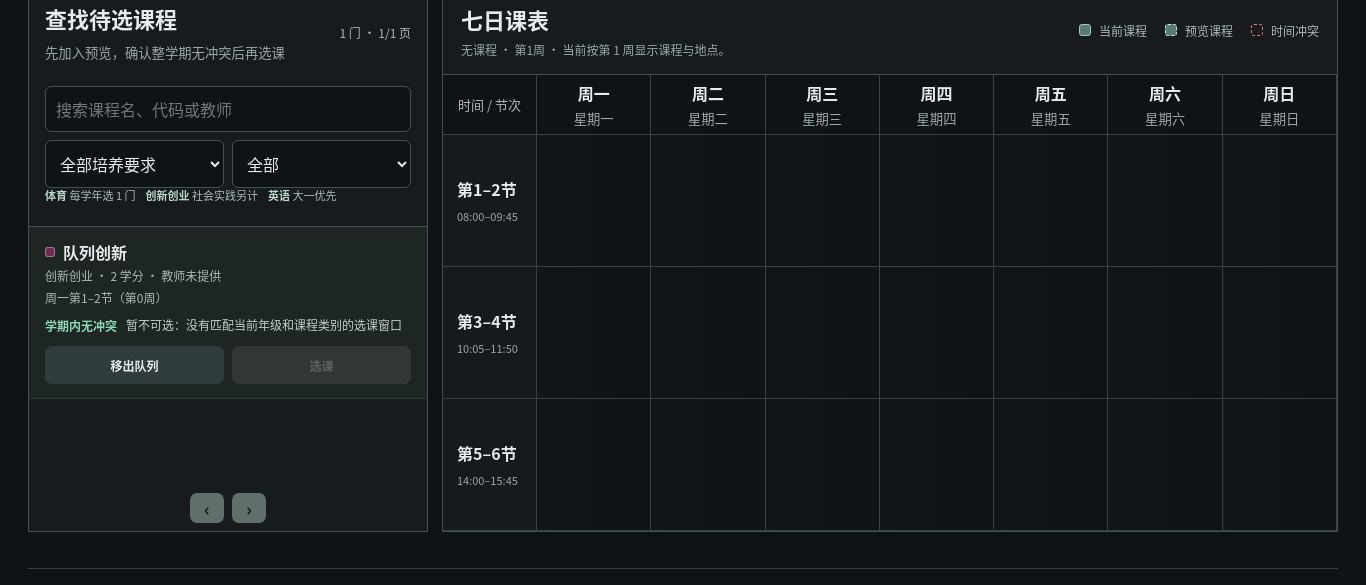
Scenario: requirement baseline selection › does not double-count declarations linked to enrolled or queued courses
The image size is (1366, 585).
(page scrolled)
Click the button "移出队列" at point(134, 365), box top-left (45, 346), bottom-right (224, 384)
(page scrolled)
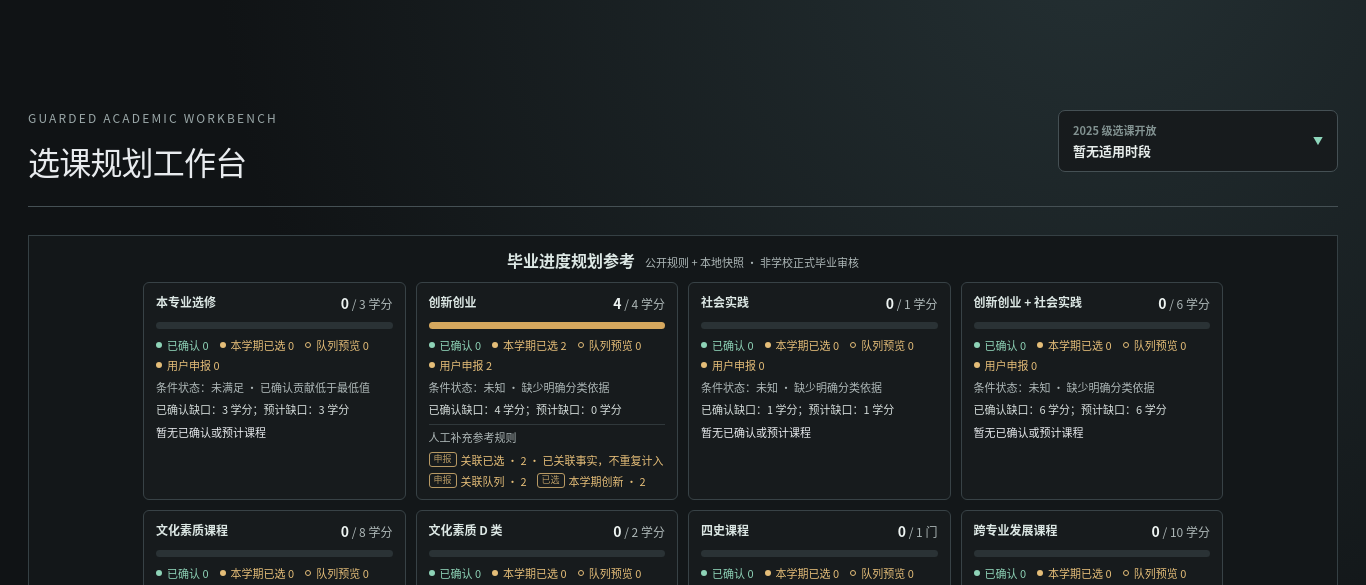
Expected: the 2nd text "队列预览 0" is shown, top-left (578, 337), bottom-right (641, 353)
Expected: the text "用户申报 2" is shown, top-left (428, 357), bottom-right (492, 373)
